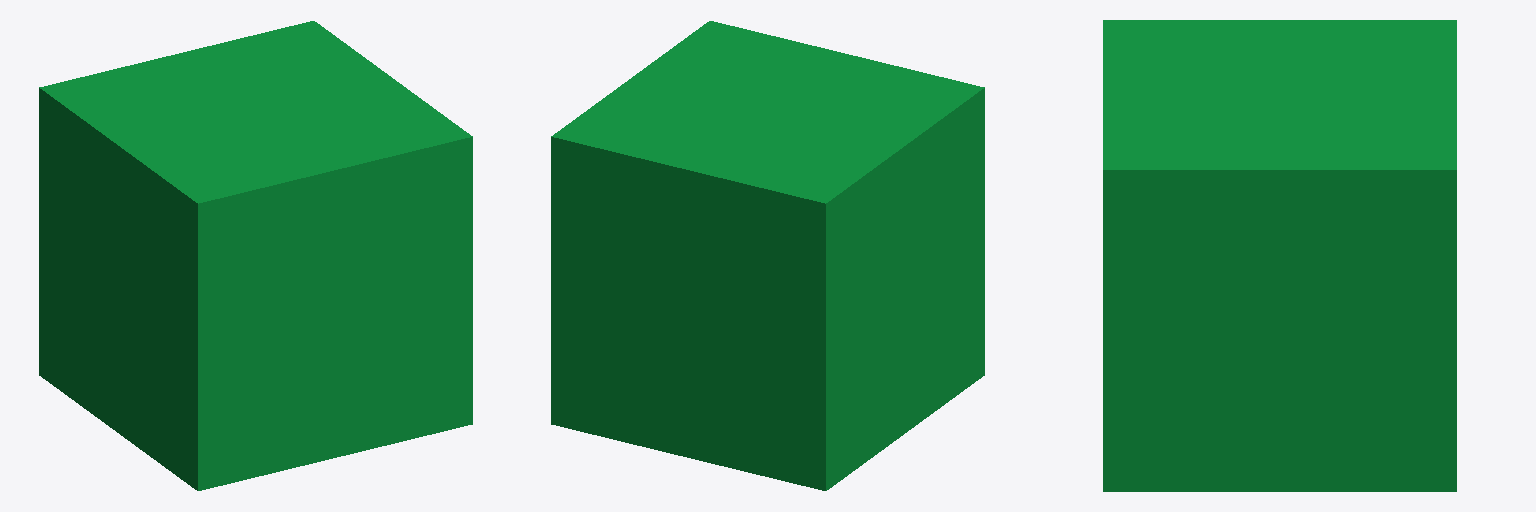
URDF robot description (cube_0p06m):
<?xml version="1.0"?>
<robot name="cube_0p06m">
  <link name="cube">
    <inertial>
      <origin xyz="0 0 0" rpy="0 0 0"/>
      <!-- Uniform cube: density=800 kg/m^3, side=0.06 m. -->
      <mass value="0.1728"/>
      <!-- I = m * a^2 / 6 = 1.0368e-4 kg*m^2 on each principal axis. -->
      <inertia ixx="1.0368e-4" ixy="0" ixz="0" iyy="1.0368e-4" iyz="0" izz="1.0368e-4"/>
    </inertial>
    <visual>
      <origin xyz="0 0 0" rpy="0 0 0"/>
      <geometry><box size="0.06 0.06 0.06"/></geometry>
      <material name="cube_green"><color rgba="0.10 0.65 0.30 1.0"/></material>
    </visual>
    <collision>
      <origin xyz="0 0 0" rpy="0 0 0"/>
      <geometry><box size="0.06 0.06 0.06"/></geometry>
    </collision>
  </link>
</robot>

--- Facts derived from the render (not from the file) ---
Views: 3 orthographic renders of the robot side by side, from view 1: azimuth 30°, elevation 25°; view 2: azimuth 150°, elevation 25°; view 3: azimuth 270°, elevation 25°.
Robot: cube_0p06m — 1 links, 0 joints (none); root link cube; default pose: every joint at zero.
Links seen in each view (by area): view 1: cube; view 2: cube; view 3: cube.
Link boxes in pixels (x1=…): cube: x1=39, y1=21, x2=472, y2=490; cube: x1=551, y1=21, x2=984, y2=490; cube: x1=1103, y1=20, x2=1456, y2=491.
Size in the robot's own frame: 0.06 by 0.06 by 0.06 metres.
Geometry: primitives only (box / cylinder / sphere), no mesh files.
